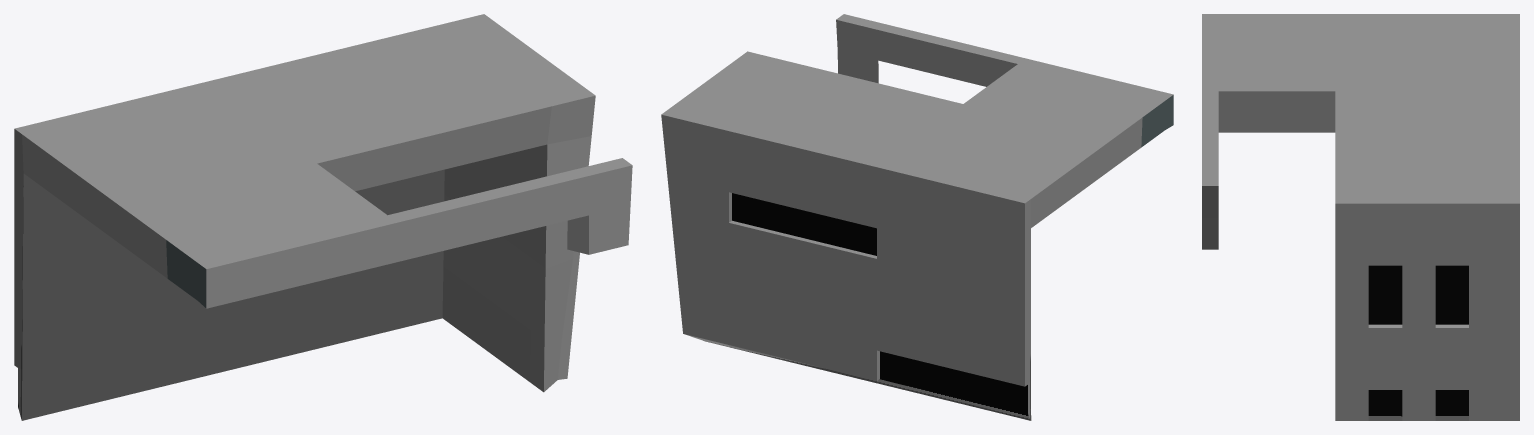
Rendered from TargetDebris_3.fbx.
The picture shows the model from 3 angles, left to right: view 1: azimuth 30°, elevation 25°; view 2: azimuth 150°, elevation 25°; view 3: azimuth 270°, elevation 25°; orthographic projection. The views are drawn at different scales.
Visible parts, largest first — view 1: Cube; view 2: Cube; view 3: Cube.
Boxes of the visible parts, <box> form: Cube: <box>14,14,632,420</box>; Cube: <box>661,14,1173,420</box>; Cube: <box>1202,14,1519,420</box>.
Bounding box in the file's own units: 305 × 178 × 216.
